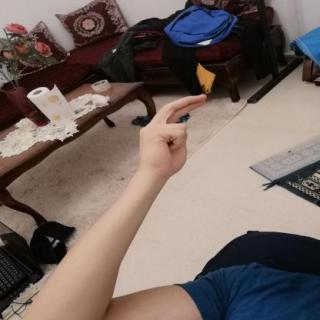ZAY: (134, 90, 215, 182)
